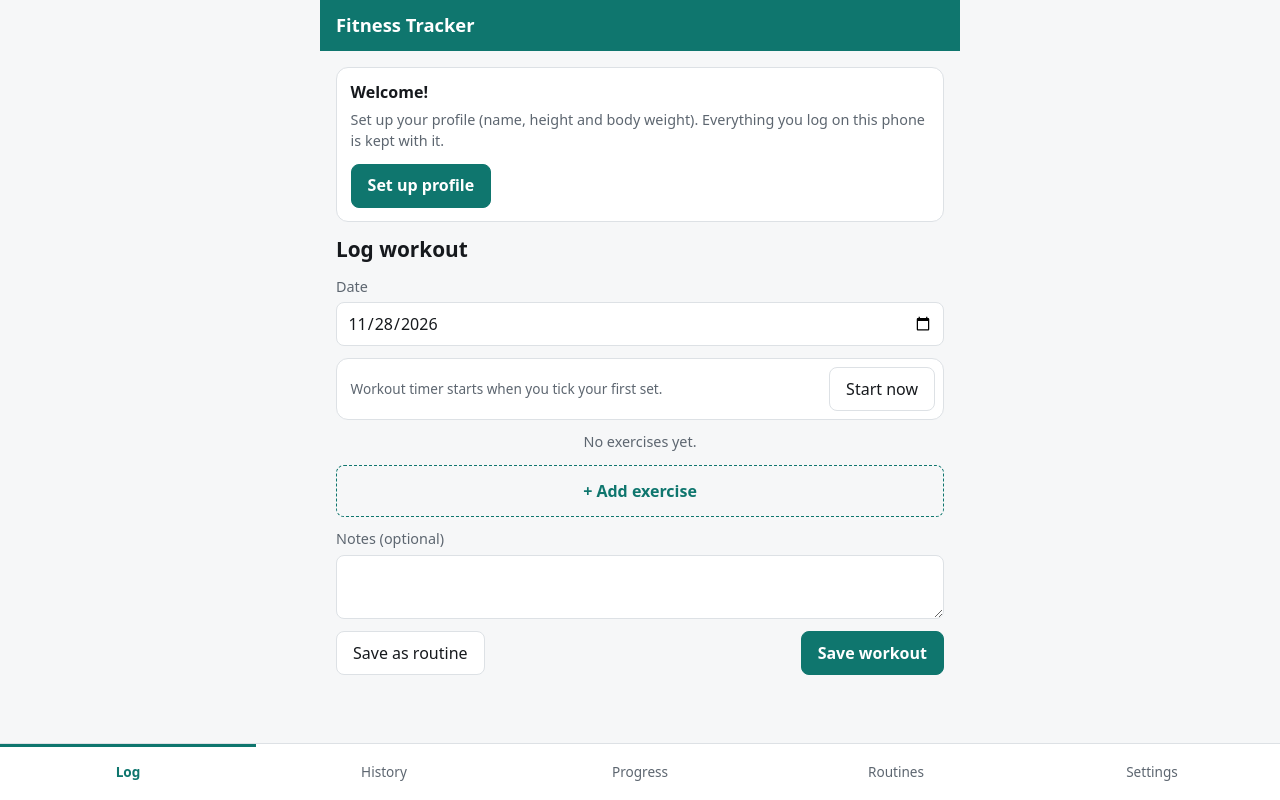
Test: App › pre-fills last session’s numbers when an exercise is picked
This screenshot has width=1280, height=800.
Click the button "+ Add exercise" at point(640, 491), box [336, 465, 944, 517]
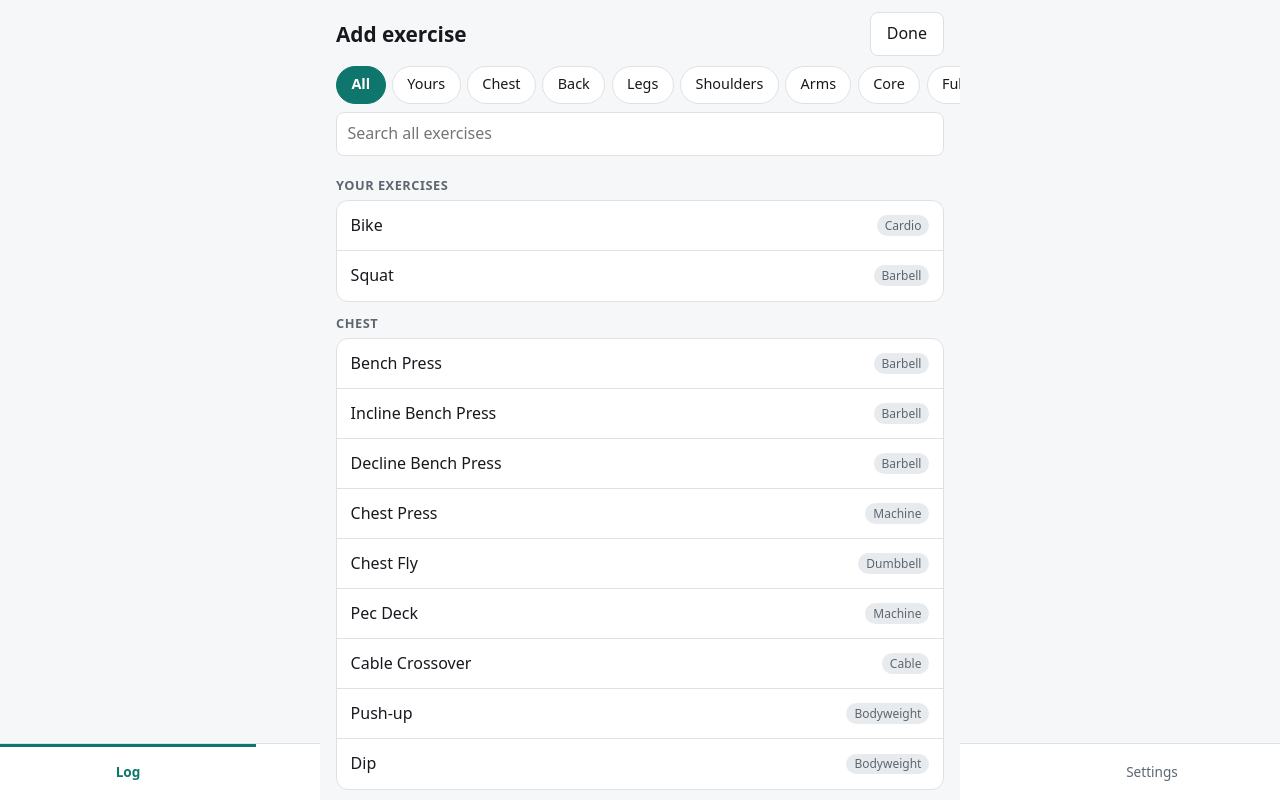
Type "Squat" into the search field named "Search exercises" at point(640, 134), box [336, 112, 944, 156]
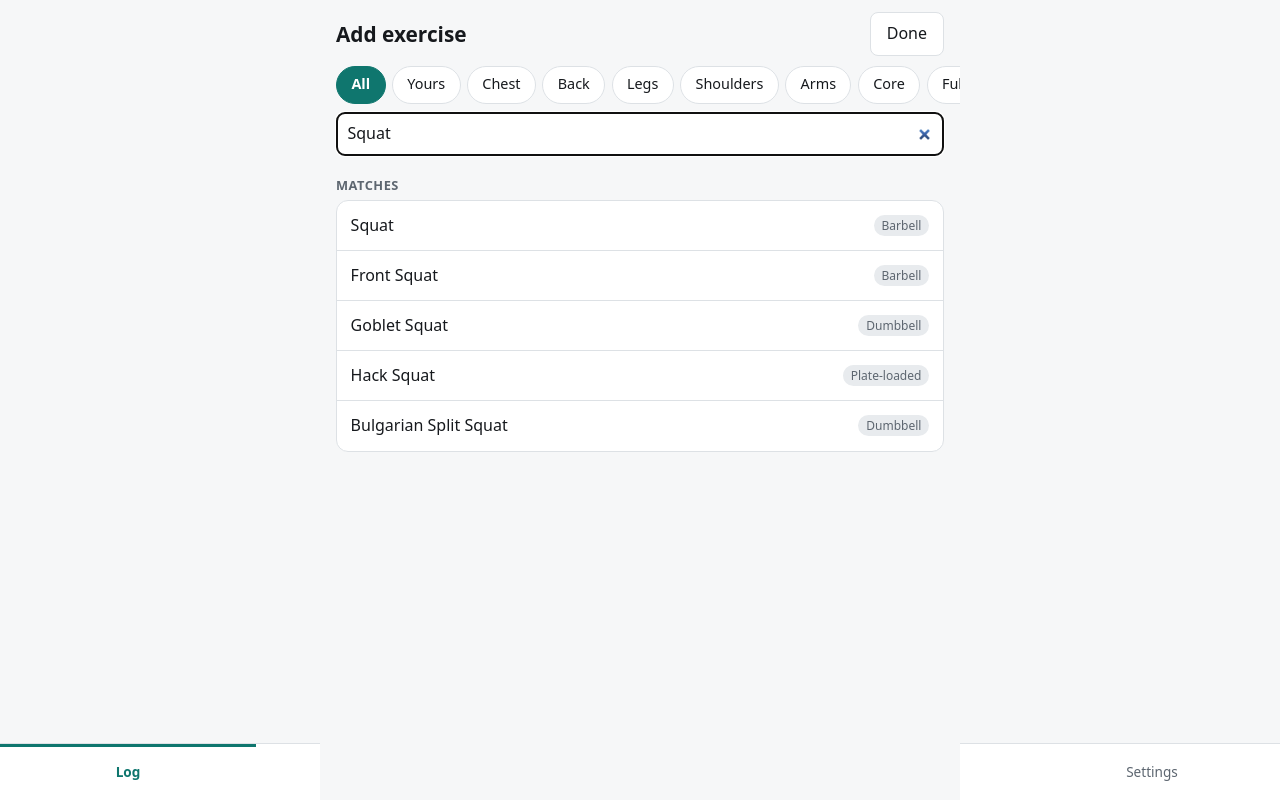
Click the button "Squat Barbell" at point(372, 225), box [337, 201, 943, 251]
(page scrolled)
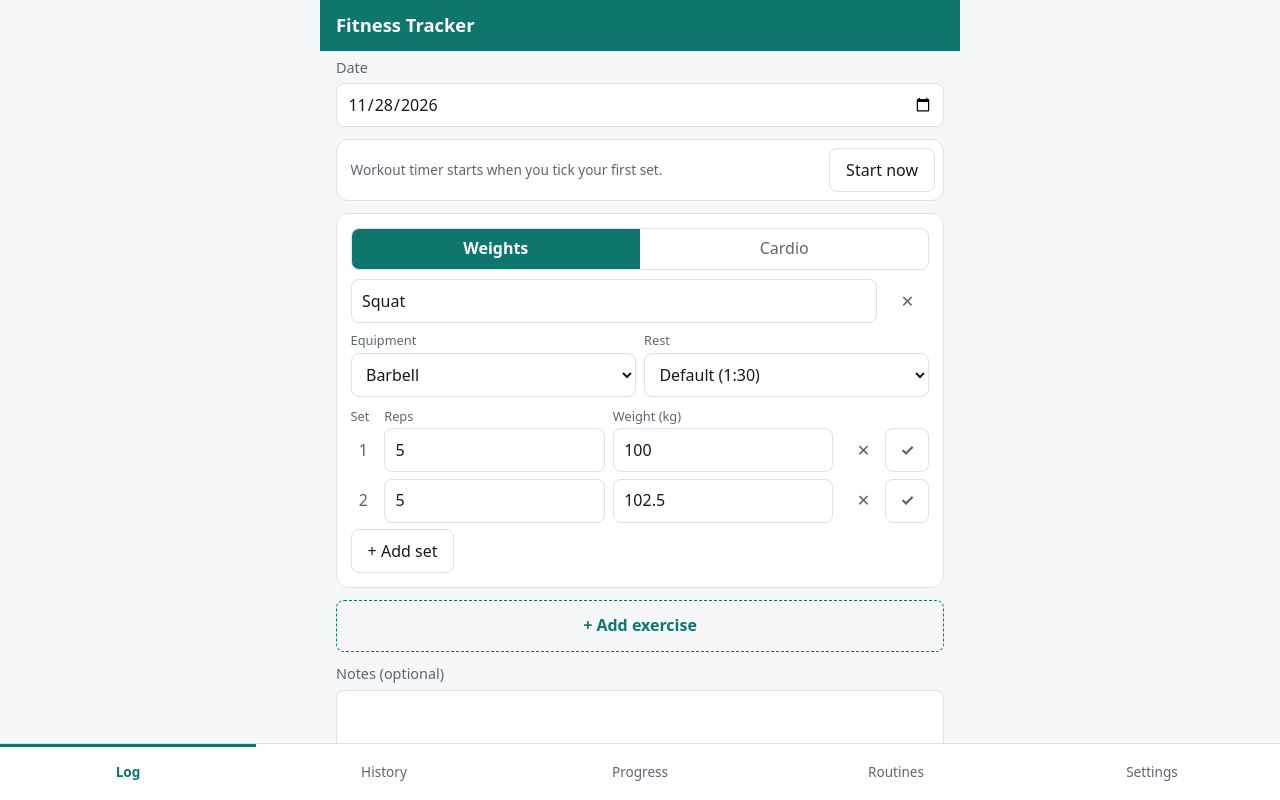
Click the button "+ Add exercise" at point(640, 626), box [336, 600, 944, 652]
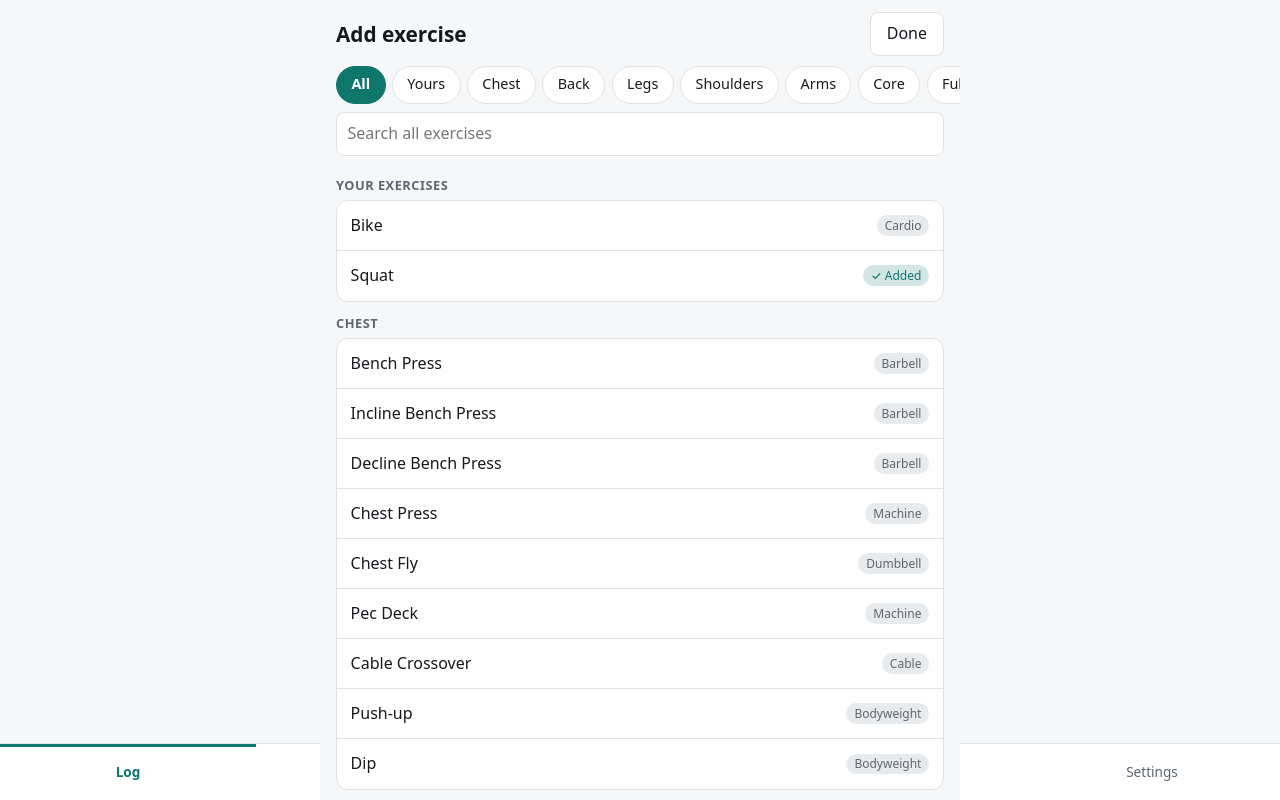
Type "Bike" into the search field named "Search exercises" at point(640, 134), box [336, 112, 944, 156]
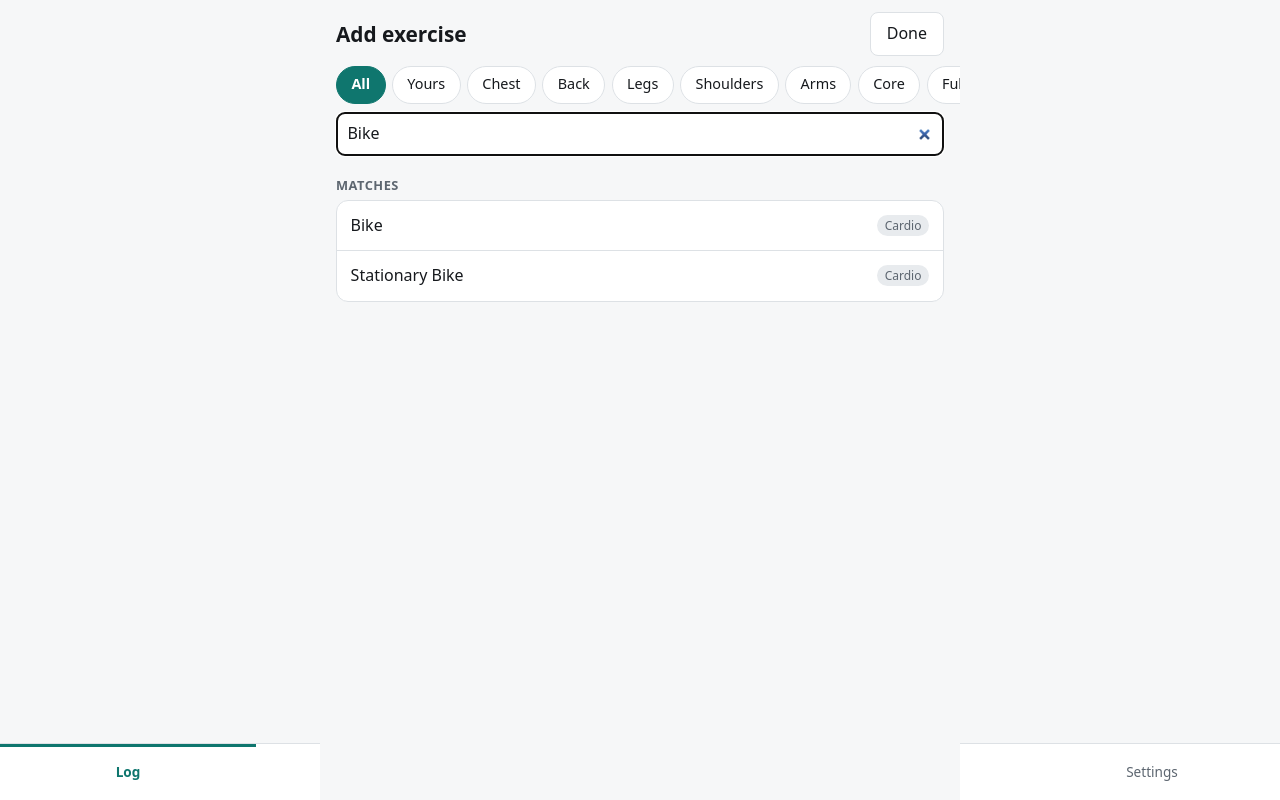
Click the button "Bike Cardio" at point(367, 225), box [337, 201, 943, 251]
(page scrolled)
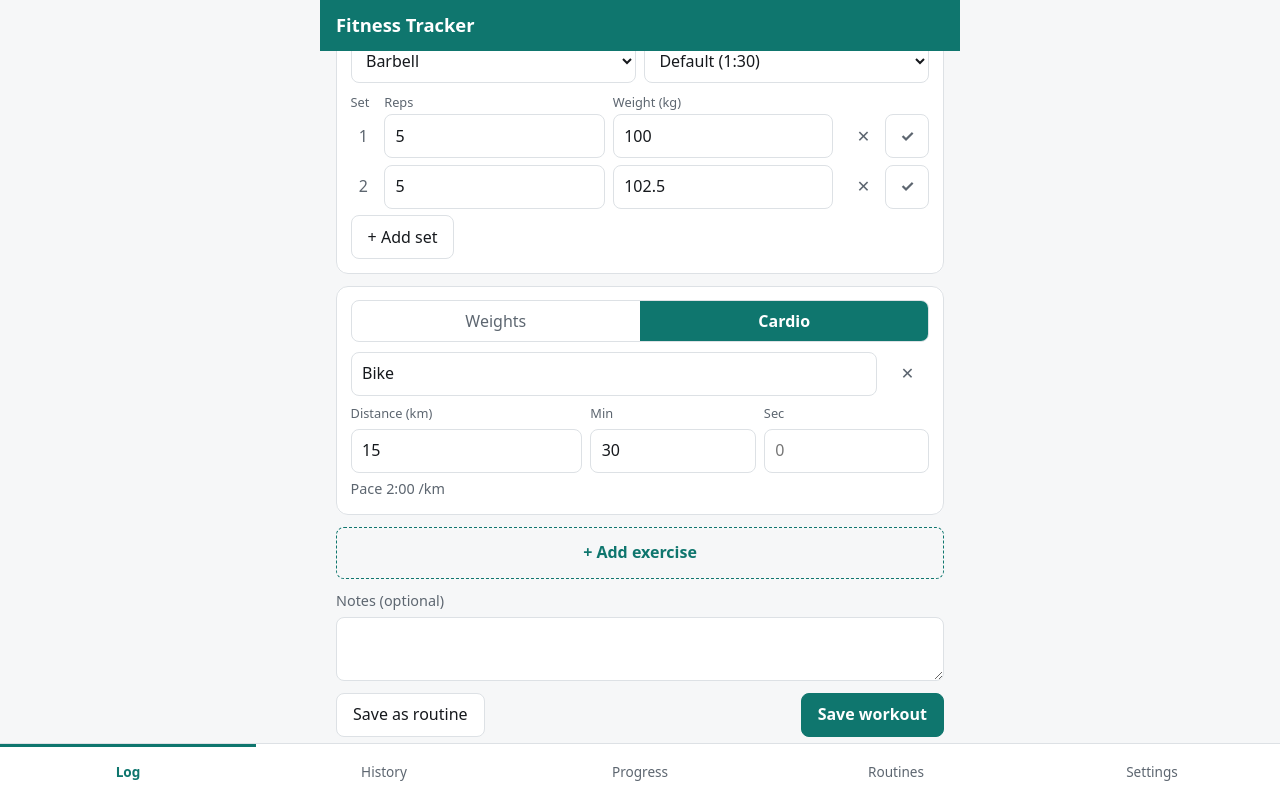
Now the field named "Exercise 1 set 2 weight" holds "102.5", box [613, 165, 833, 209]
Now the element named "Exercise 2 type" shows "Cardio", box [640, 301, 928, 341]
Now the field named "Exercise 2 distance" holds "15", box [351, 429, 582, 473]
